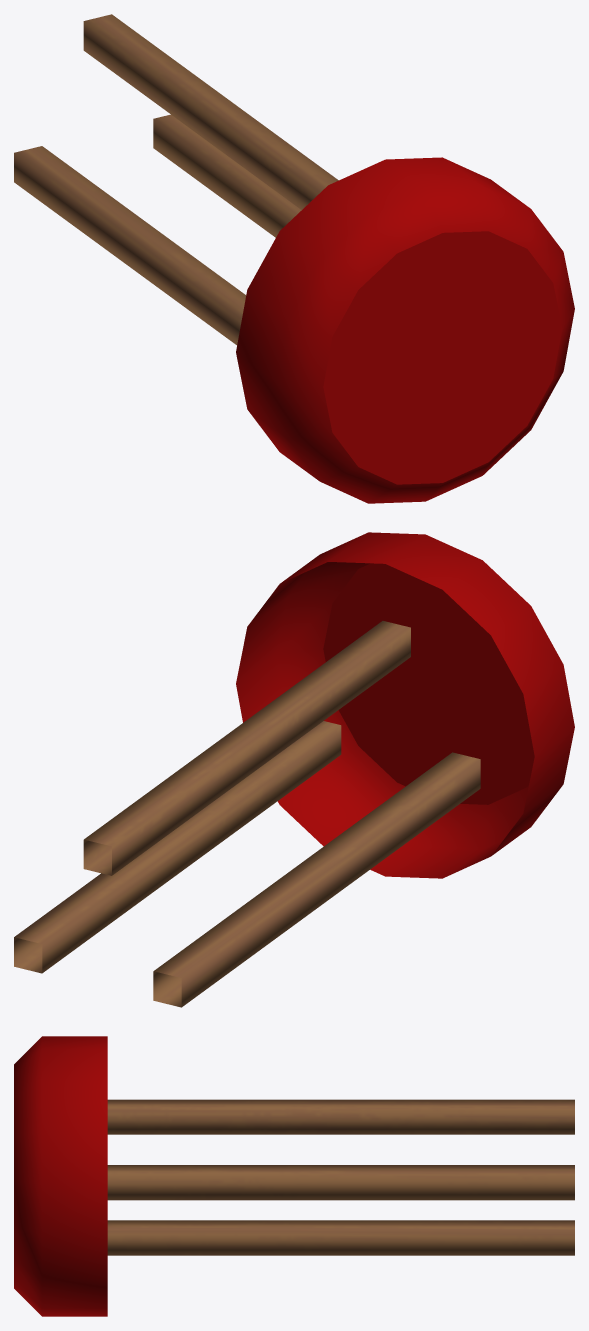
Rendered from barstool.obj.
3 renders of one model, top to bottom at view 1: azimuth 30°, elevation 25°; view 2: azimuth 150°, elevation 25°; view 3: azimuth 270°, elevation 25°, orthographic. The views are drawn at different scales.
Parts seen in each view (by area): view 1: Circle, Tube.001; view 2: Circle, Tube.001; view 3: Tube.001, Circle.
Boxes of the visible parts, box(x1,y1,x2,y2) form: Circle: box(236, 157, 574, 503); Tube.001: box(14, 14, 338, 345); Circle: box(236, 532, 574, 878); Tube.001: box(14, 621, 480, 1007); Tube.001: box(107, 1099, 574, 1255); Circle: box(14, 1036, 107, 1316).
Bounding box in the file's own units: 0.3 × 0.3 × 0.6.
2 materials, 1 textured.
